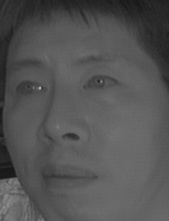eye: (78, 69, 119, 95), (11, 76, 49, 99)
mouth: (38, 159, 99, 193)
